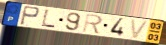4: (108, 17, 126, 38)
9: (64, 12, 82, 32)
L: (40, 9, 56, 29)
P: (19, 5, 41, 27)
R: (81, 13, 104, 35)
V: (130, 18, 151, 40)
